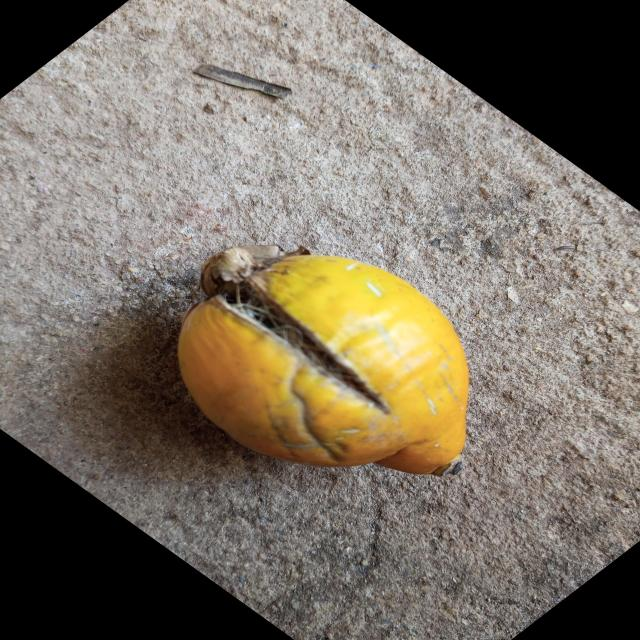damaged: (178, 245, 468, 476)
